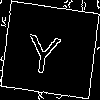Y: (25, 24, 63, 76)
